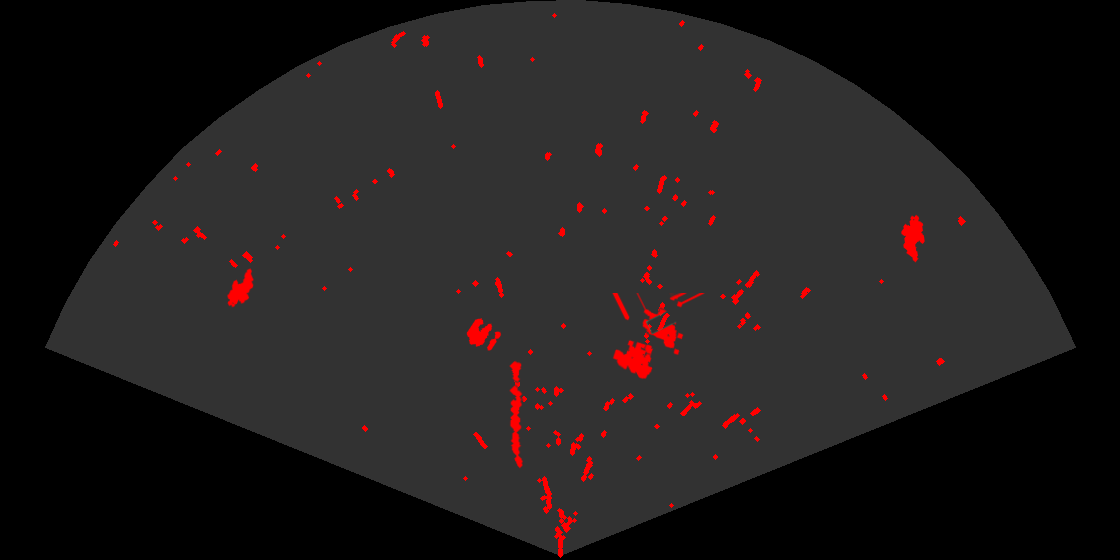AUV: (900, 213, 926, 264), (225, 267, 256, 309)
ball: (465, 317, 503, 352)
cage: (610, 293, 706, 381)
chain: (508, 360, 525, 469)
